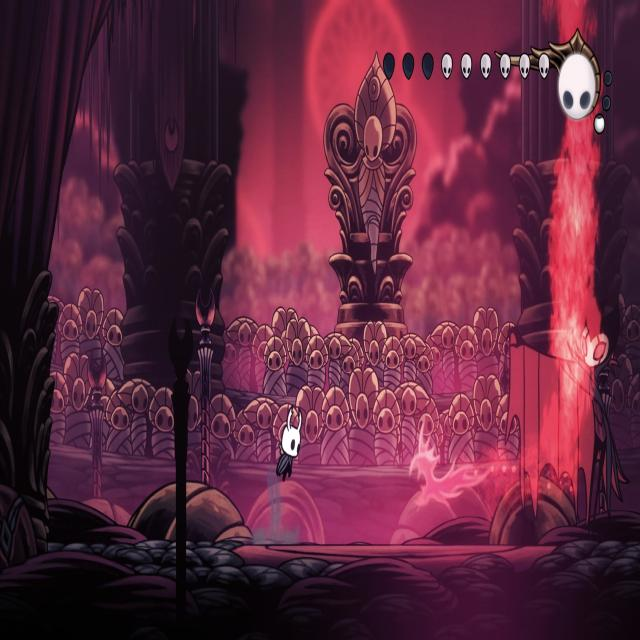Fire Bat: (408, 424, 490, 516)
Open Cloak: (504, 288, 630, 548)
Player: (272, 399, 306, 485)
